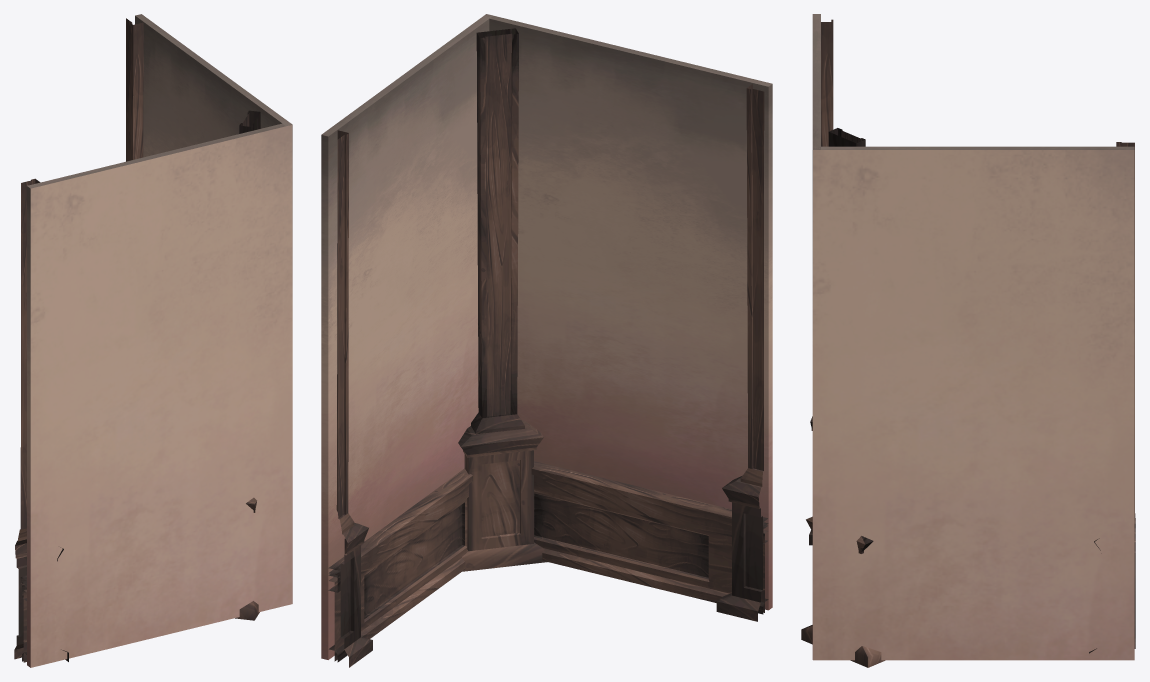
The model's file is Wall_Bot_InnerCorner_V1.fbx.
3 views of the same model, side by side, from view 1: azimuth 30°, elevation 25°; view 2: azimuth 150°, elevation 25°; view 3: azimuth 270°, elevation 25° (orthographic). The views are drawn at different scales.
Parts seen in each view (by area): view 1: Inner_Corner_Wall_Bot; view 2: Inner_Corner_Wall_Bot; view 3: Inner_Corner_Wall_Bot.
Boxes of the visible parts, x1,y1,x2,y2 form: Inner_Corner_Wall_Bot: [14, 14, 292, 667]; Inner_Corner_Wall_Bot: [321, 14, 772, 667]; Inner_Corner_Wall_Bot: [801, 14, 1135, 667].
Size of the model in its own units: 0.0252 by 0.0422 by 0.025.
